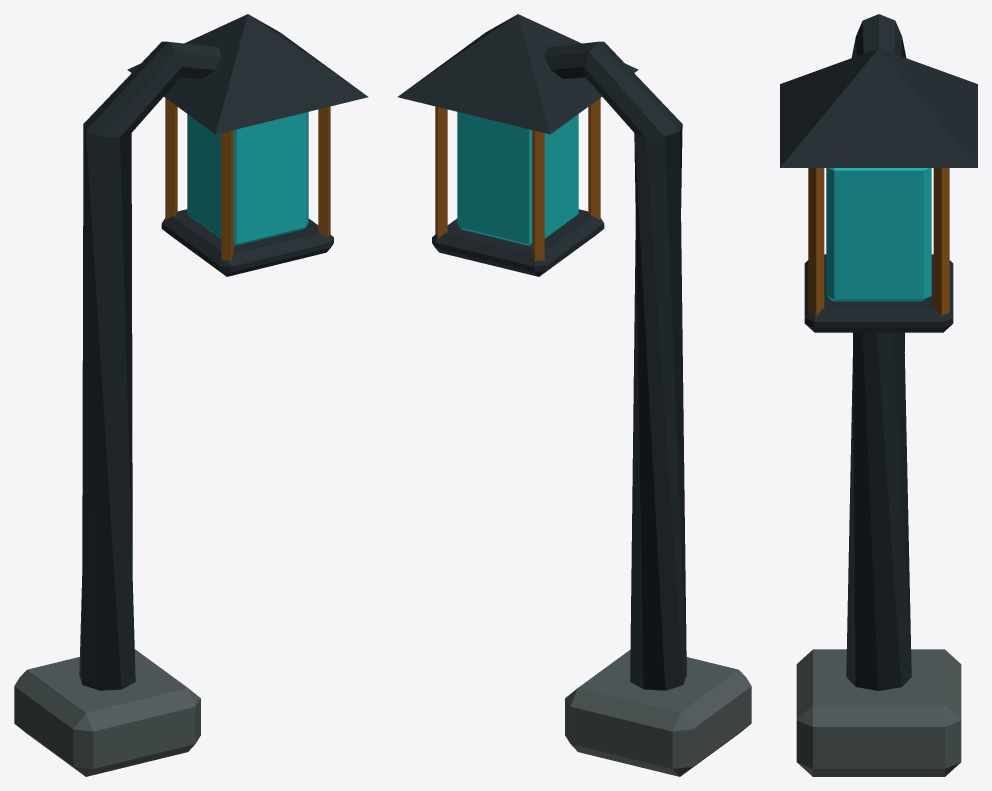
The model's file is Lanterna_de_rua_LOD0.fbx.
3 renders of one model, left to right at view 1: azimuth 30°, elevation 25°; view 2: azimuth 150°, elevation 25°; view 3: azimuth 270°, elevation 25°, orthographic. The views are drawn at different scales.
Visible parts, largest first — view 1: Lanterna_de_rua_LOD0; view 2: Lanterna_de_rua_LOD0; view 3: Lanterna_de_rua_LOD0.
Boxes of the visible parts, x1,y1,x2,y2 form: Lanterna_de_rua_LOD0: (14,14,368,776); Lanterna_de_rua_LOD0: (397,14,751,776); Lanterna_de_rua_LOD0: (780,14,977,776).
Size of the model in its own units: 110 by 260 by 60.
Materials: 1 (1 with a texture image).
